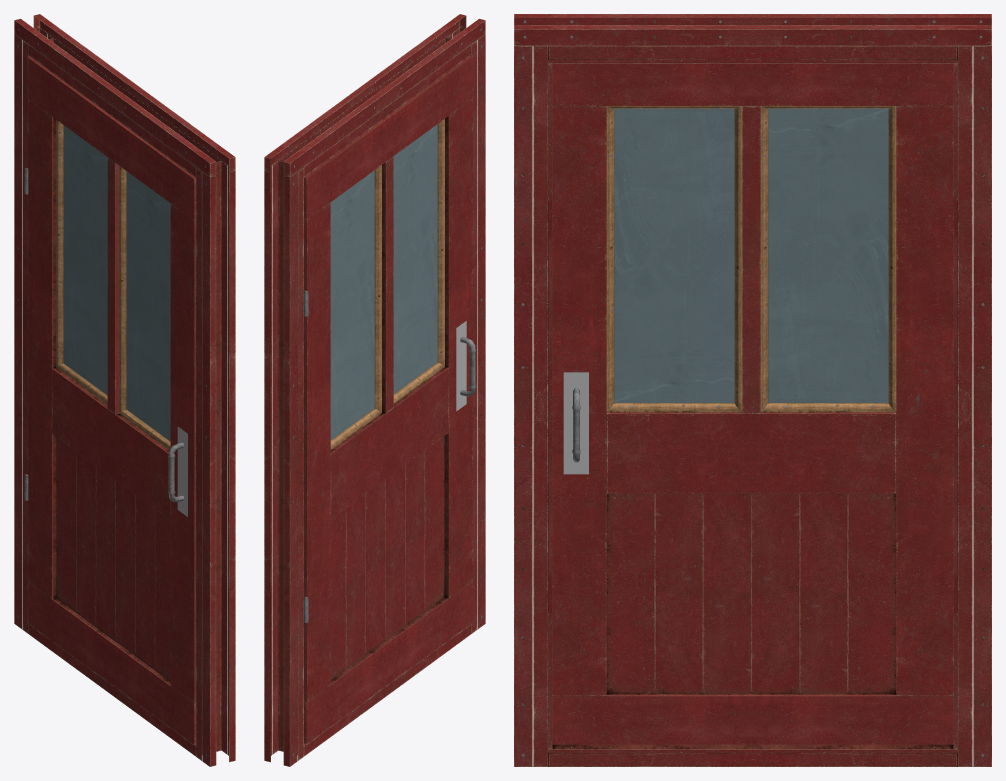
File: OldRedDoor.fbx
The picture shows the model from 3 angles, left to right: view 1: azimuth 30°, elevation 25°; view 2: azimuth 150°, elevation 25°; view 3: azimuth 270°, elevation 25°; orthographic projection. The views are drawn at different scales.
Parts seen in each view (by area): view 1: Door, DoorFrame; view 2: Door, DoorFrame; view 3: Door, DoorFrame.
Boxes of the visible parts, bbox=[...] form: Door: bbox=[28, 57, 195, 744]; DoorFrame: bbox=[14, 14, 235, 766]; Door: bbox=[304, 56, 476, 743]; DoorFrame: bbox=[264, 14, 485, 766]; Door: bbox=[552, 63, 953, 744]; DoorFrame: bbox=[514, 14, 991, 766].
Bounding box in the file's own units: 0.2035 × 1.51 × 2.57.
